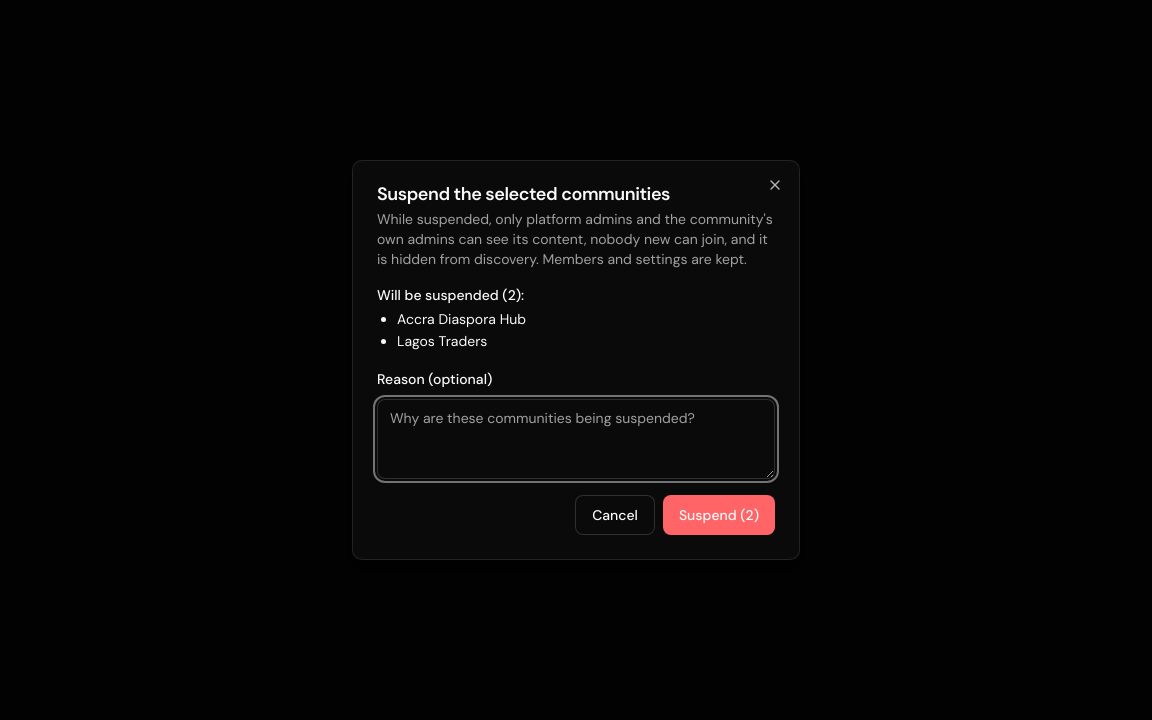
Test case: BulkSuspendCommunitiesDialog › reports a partial failure by name, never as a success, and narrows a retry to the failures
The width and height of the screenshot is (1152, 720).
Click the button "Suspend (2)" at x=719, y=515, box top-left (663, 495), bottom-right (775, 535)
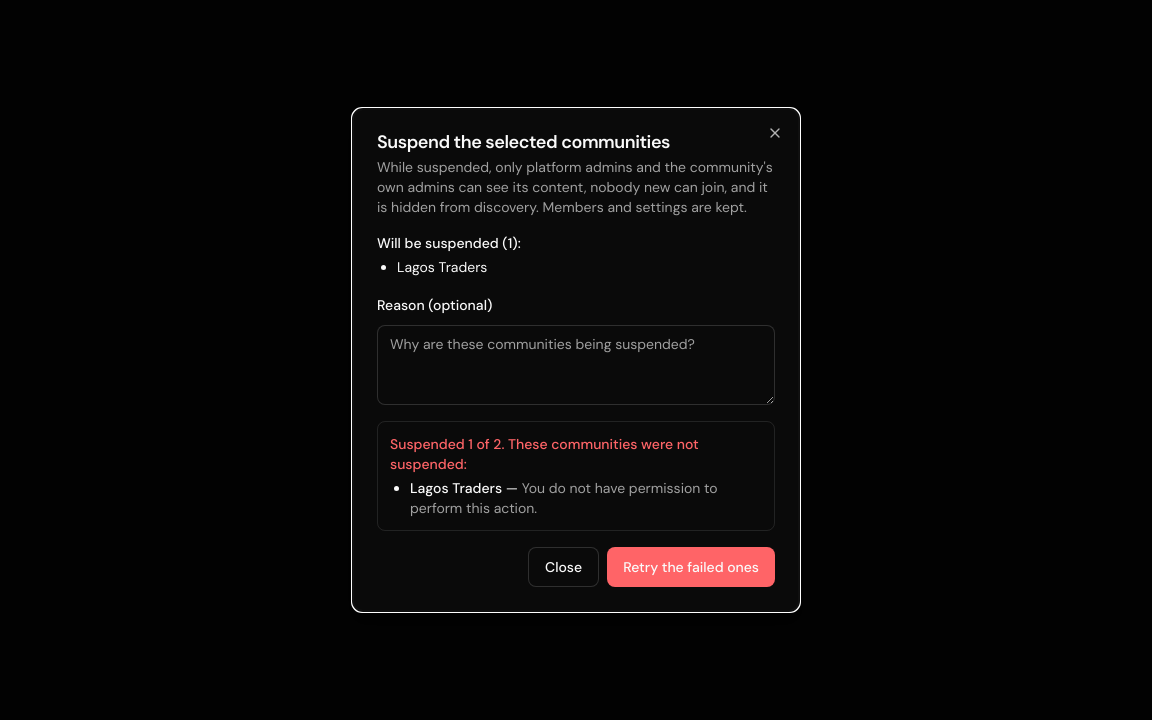
Now the message shows "Suspended 1 of 2. These communities were not suspended:", box top-left (390, 435), bottom-right (699, 473)
Now the text "Lagos Traders" is shown, box top-left (410, 479), bottom-right (502, 497)
Now the message shows "do not have permission", box top-left (410, 479), bottom-right (718, 517)
